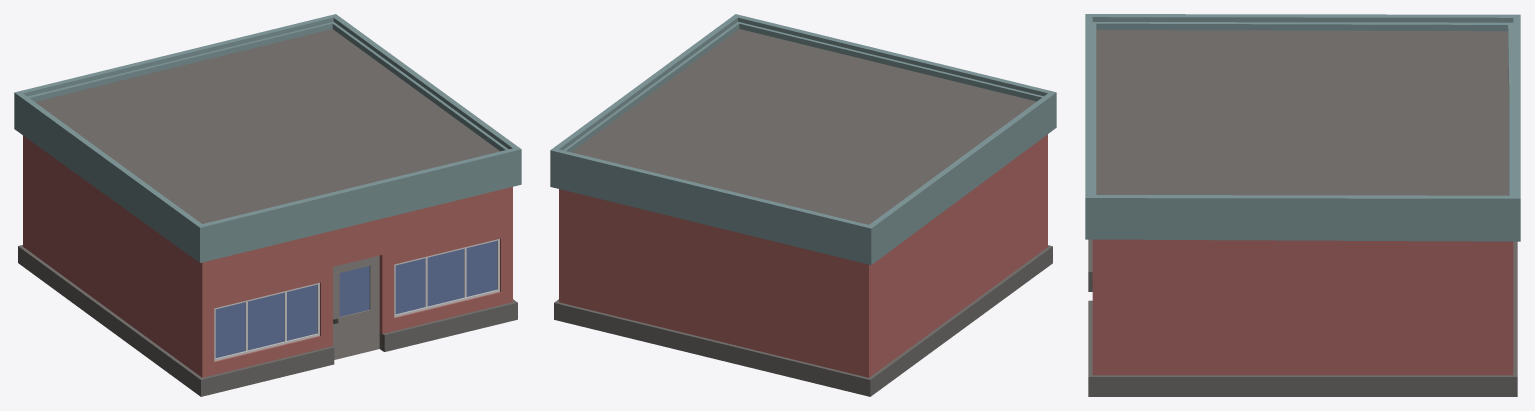
The model's file is House_04.fbx.
3 views of the same model, side by side, from view 1: azimuth 30°, elevation 25°; view 2: azimuth 150°, elevation 25°; view 3: azimuth 270°, elevation 25° (orthographic). The views are drawn at different scales.
Parts seen in each view (by area): view 1: House_04; view 2: House_04; view 3: House_04.
Boxes of the visible parts, left/top/right/bottom form: House_04: left=14, top=14, right=521, bottom=396; House_04: left=550, top=14, right=1056, bottom=396; House_04: left=1085, top=14, right=1520, bottom=396.
Bounding box in the file's own units: 706 × 358 × 706.
1 material, 1 textured.
